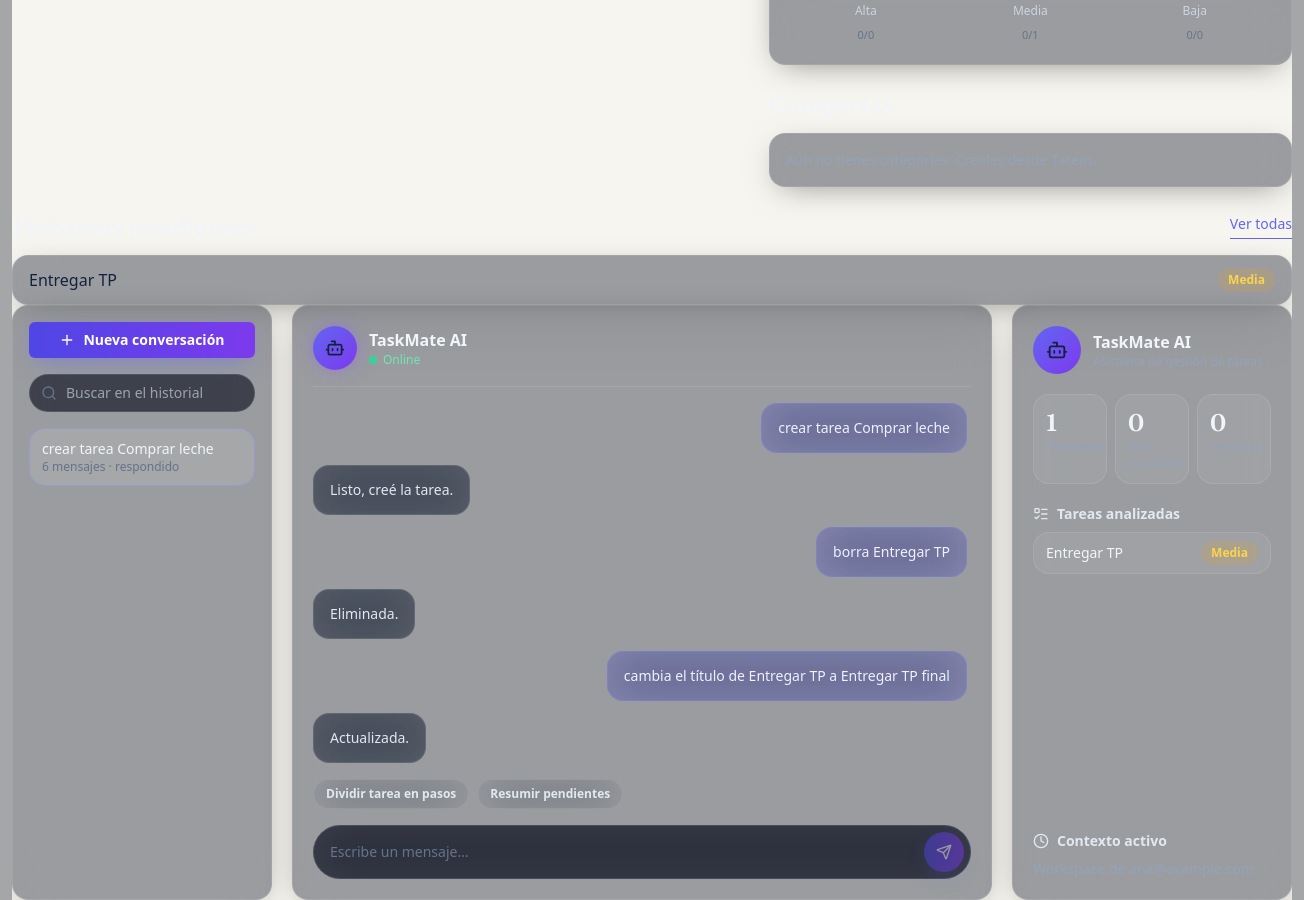
Scenario: sincronización del chat con el Dashboard › no vuelve a pedir las tareas cuando la respuesta no cambió ninguna
(page scrolled)
Step 1. Type "qué me conviene hacer primero" into the field named "Mensaje para TaskMate AI" → (623, 852), box [330,842,916,862]
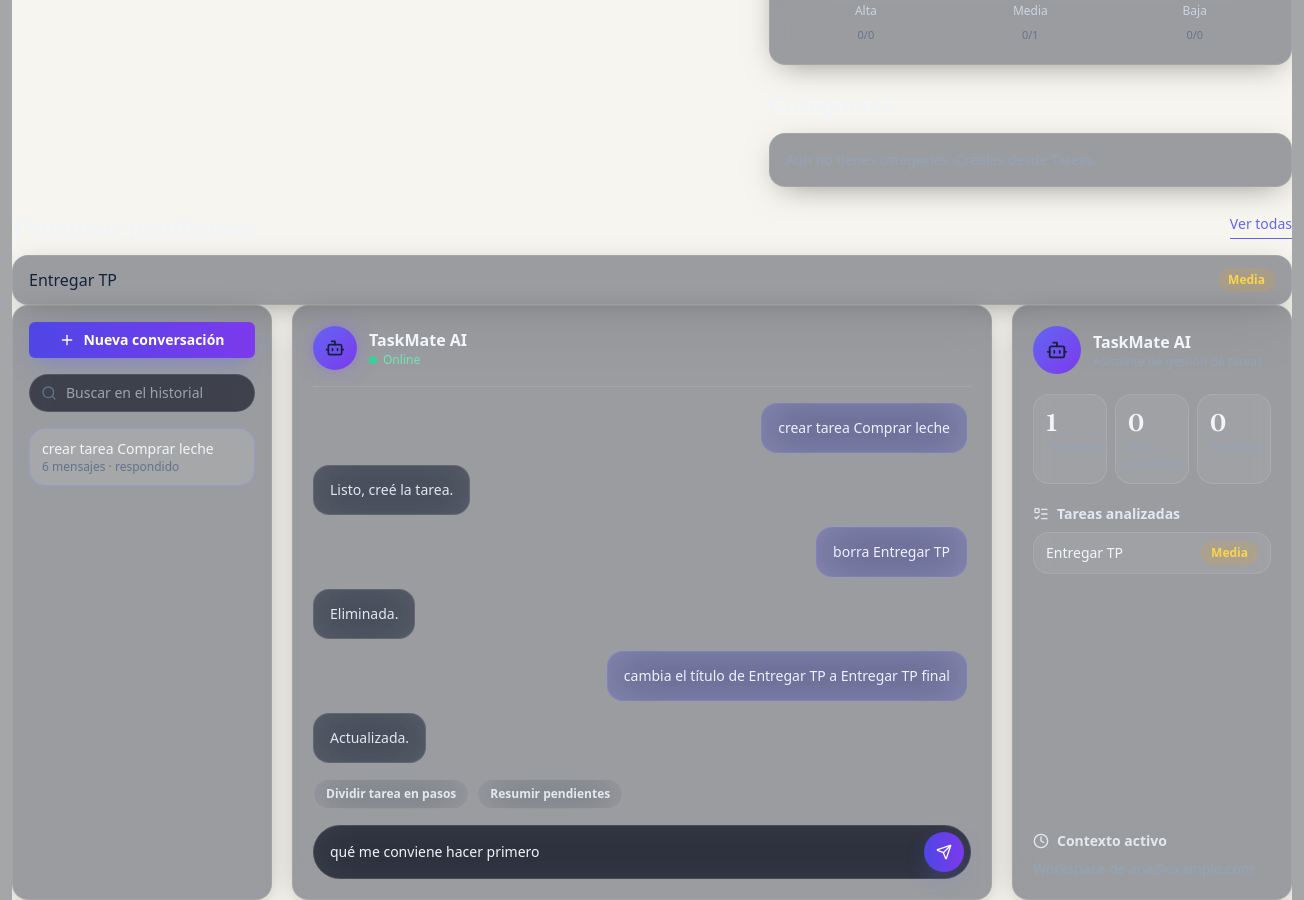
Step 2. Click the button named "Enviar mensaje" → (944, 852), box [924,832,964,872]
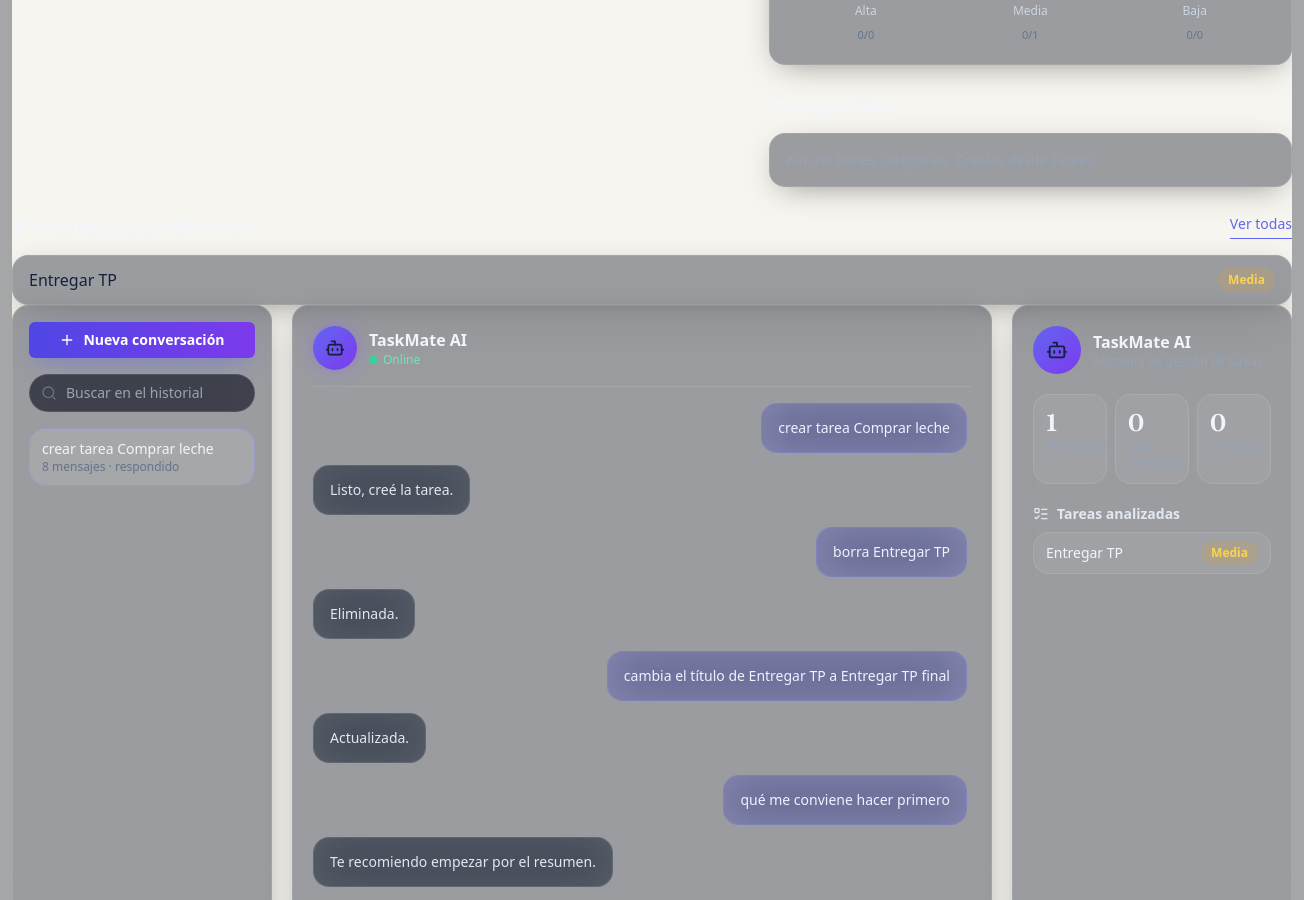
Result: the text "Te recomiendo empezar por el resumen." is shown at [313,836,613,886]
